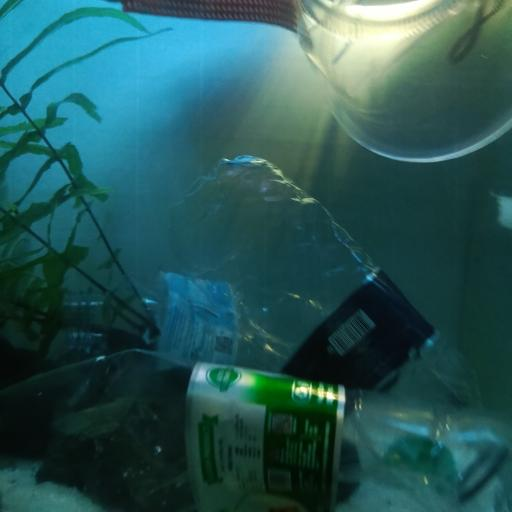mask: (121, 0, 303, 42)
plastic_bottle: (178, 156, 502, 498), (0, 348, 512, 512), (52, 270, 470, 383)
plastic_cup: (292, 0, 512, 167)
